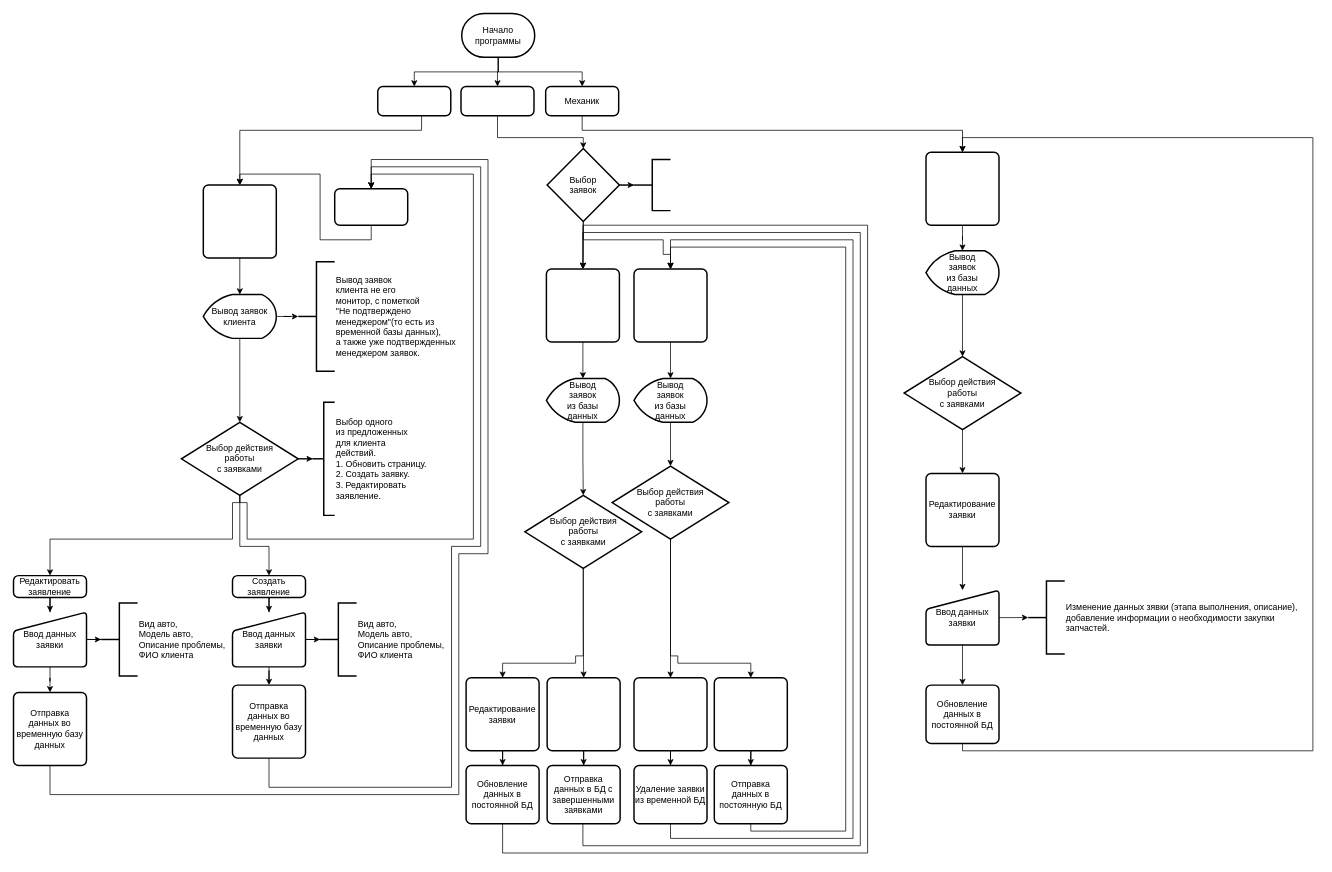
Some shapes in this 1332 by 872 pixel diagram are drawn without their labels. The shapes that lost their labels are listed below. From the top down, each one's centre as x and y in pixels, then its label:
[414,100]: Клиент
[497,100]: Менеджер
[652,184]: Просмотр новых или уже подтвержденных заявок.
[962,188]: Получение заявок назначенных механику из базы данных
[239,221]: Получение всех заявок клиента из временной и постоянной базы данных.
[371,207]: Обновление страницы
[582,305]: Получение всех данных из постоянной базы данных.
[670,305]: Получение всех данных из временной базы данных.
[583,714]: Закрытие заявки и установка статуса "завершено"
[670,714]: Отклонение заявки
[750,714]: Изменение статуса заявки на в "процессе ремонта" и назначение механика
